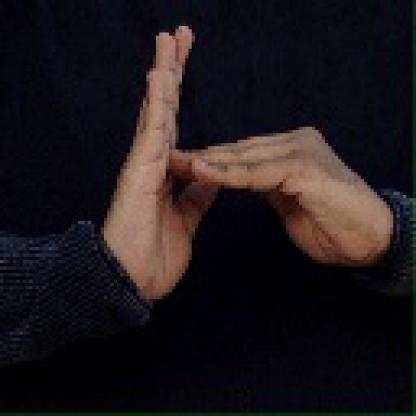Z: (96, 19, 350, 294)
